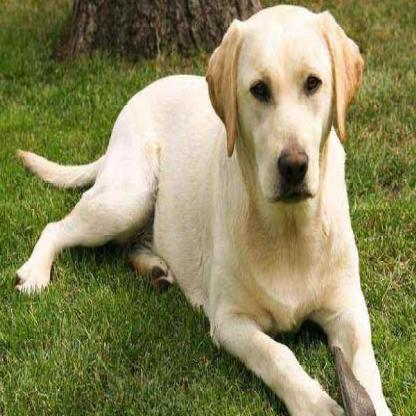Labarador Retriever: (11, 5, 391, 416)
